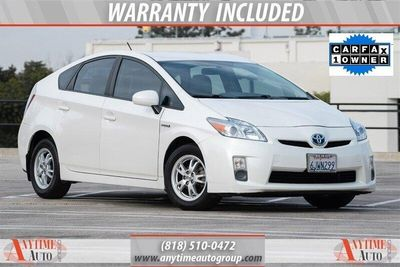Toyota Prius: (15, 47, 379, 214)
